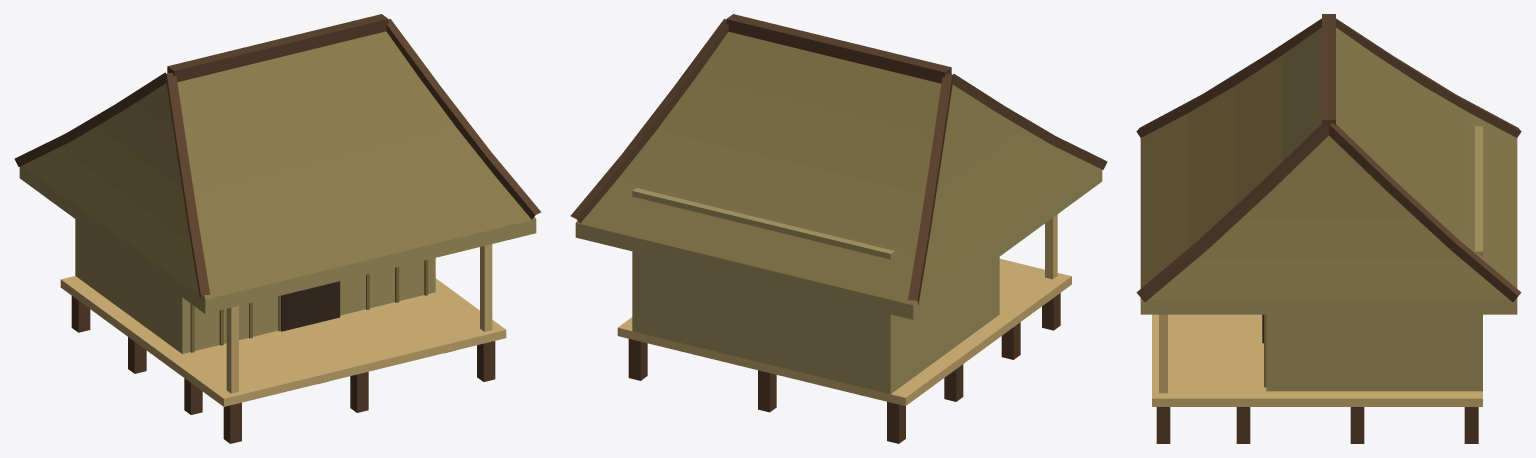
File: viet_house_nipa.glb
3 views of the same model, side by side, from view 1: azimuth 30°, elevation 25°; view 2: azimuth 150°, elevation 25°; view 3: azimuth 270°, elevation 25° (orthographic).
Visible parts, largest first — view 1: viet_house_nipa; view 2: viet_house_nipa; view 3: viet_house_nipa.
Part boxes in pixels (x1,y1,x2,y2): viet_house_nipa: (14, 14, 540, 443); viet_house_nipa: (570, 14, 1107, 443); viet_house_nipa: (1136, 14, 1521, 443).
Size of the model in its own units: 1 by 0.8611 by 0.9654.
